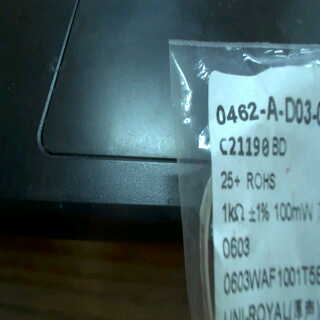1kR: (220, 197, 248, 227)
